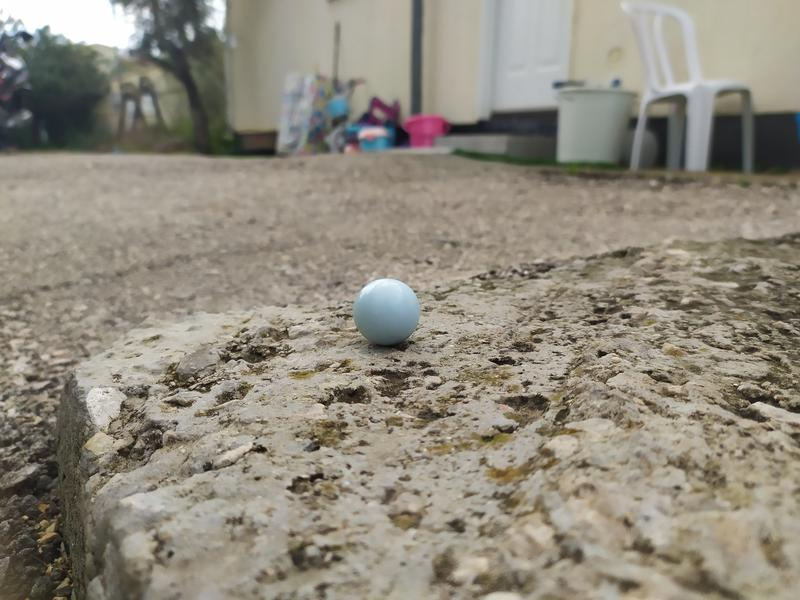Warning: (350, 276, 424, 349)
